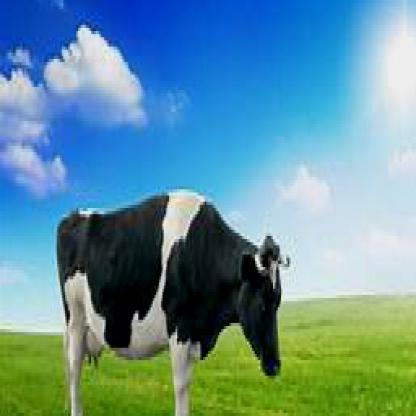cow: (57, 192, 292, 413)
